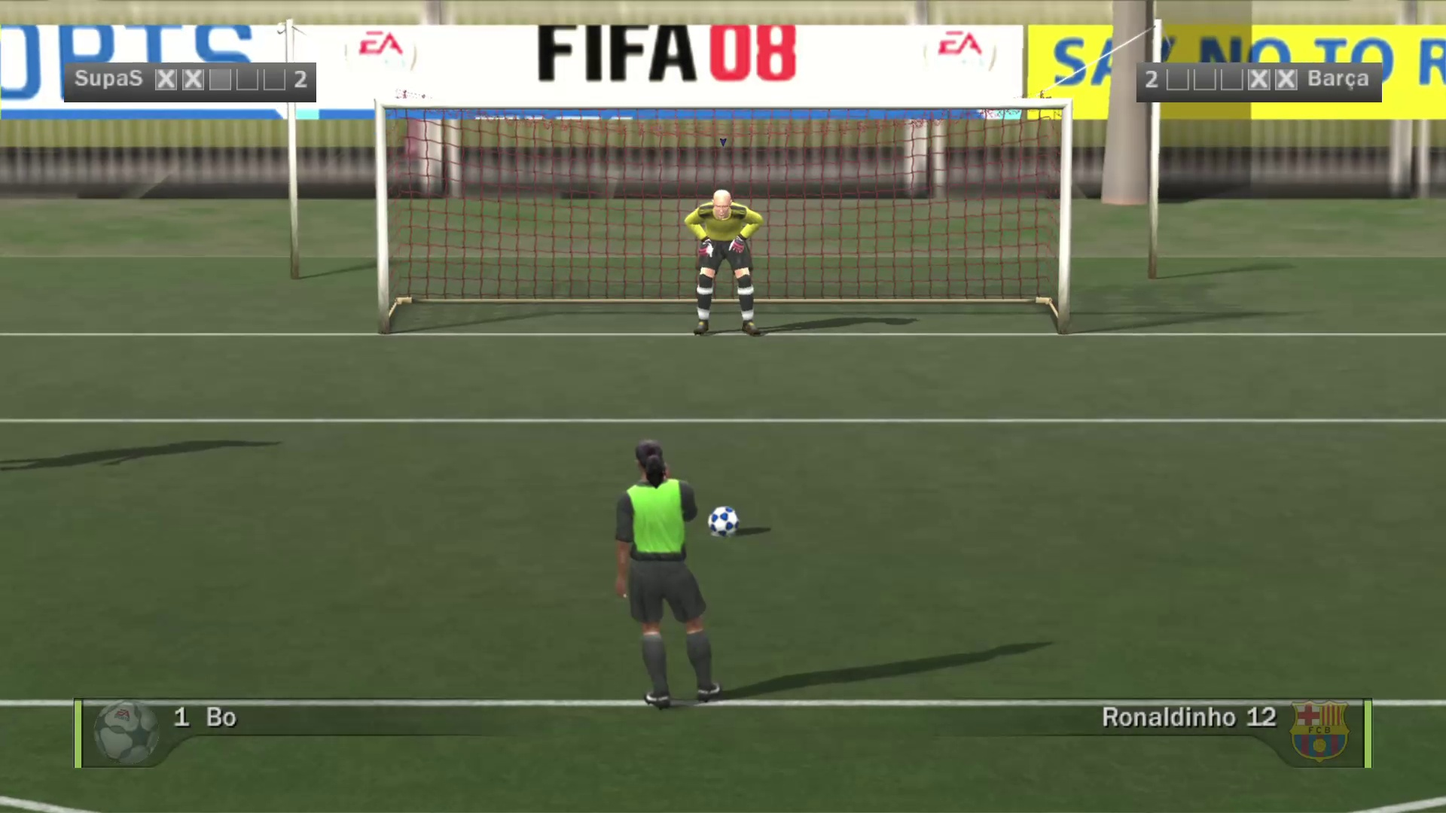ball: (695, 492, 726, 522)
goal_post: (50, 3, 723, 221)
keeper: (640, 116, 726, 261)
kicker: (565, 311, 661, 568)
